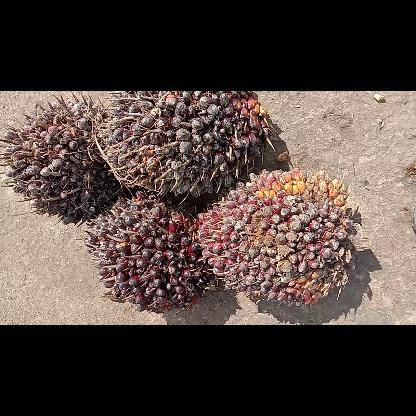Kurang masak: (198, 167, 370, 306), (107, 90, 278, 198), (0, 91, 122, 221), (82, 199, 218, 311)
